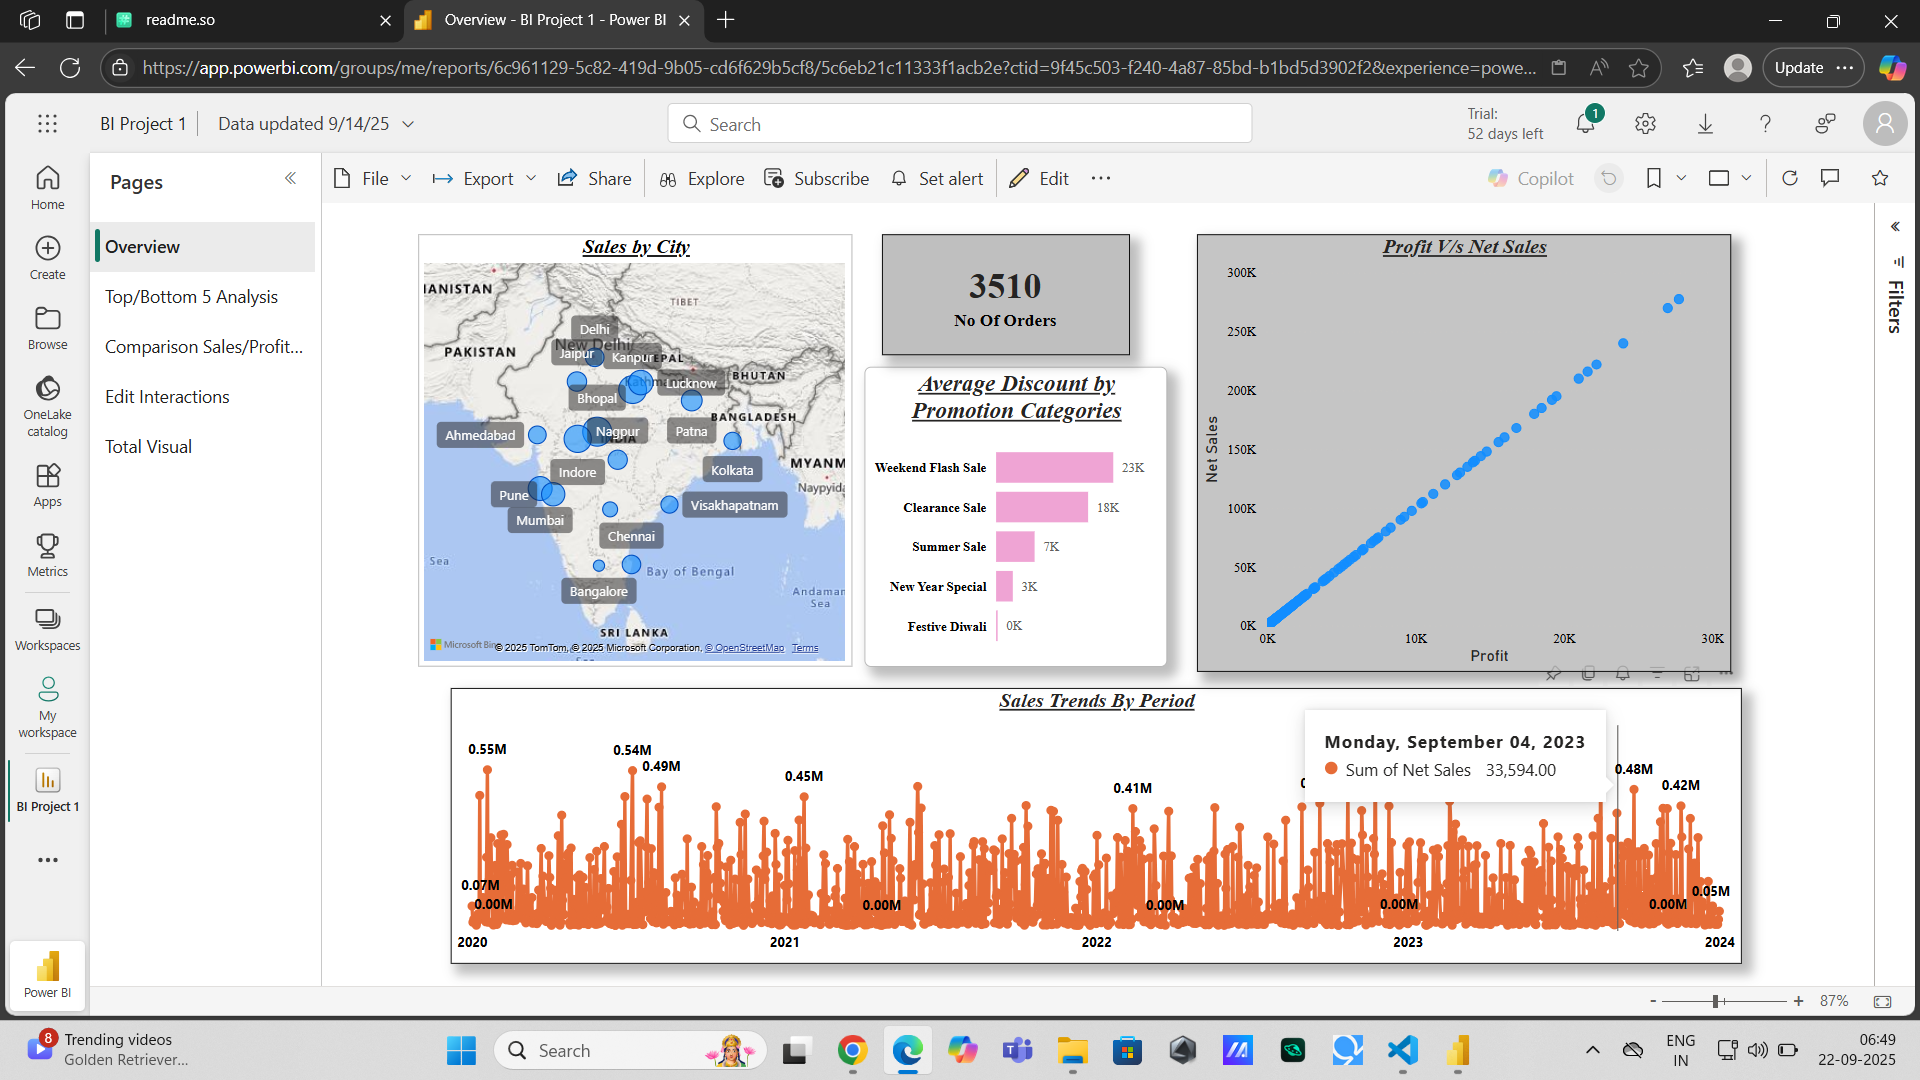

The page's visual inventory and layout, read from the dashboard file:
{"tool":"powerbi","page":{"name":"Overview","canvas":[1280,720],"ordinal":0},"visuals":[{"type":"lineChart","title":"Sales Trends By Period","fields":{"Y":["Sum(Fact Table.Net Sales)"],"Category":["Fact Table.Date (dd/mm/yyyy).Variation.Date Hierarchy.Year"]},"box":[45.3,446,1187,253.9],"z":0},{"type":"scatterChart","title":"Profit V/s Net Sales","fields":{"X":["Fact Table.Profit"],"Y":["Fact Table.Net Sales"]},"box":[731.4,28.8,491.3,402.1],"z":1000},{"type":"barChart","title":"Average Discount by Promotion Categories","fields":{"Y":["Avg(Fact Table.Discount)"],"Category":["Dim Promotion.Promotion Name"]},"box":[425.4,150.9,278.6,275.8],"z":2000},{"type":"map","title":"Sales by City","fields":{"Category":["Dim Customers.City"],"Size":["Sum(Fact Table.Net Sales)"]},"box":[15.1,28.8,399.3,397.9],"z":3000},{"type":"card","fields":{"Values":["Count(Fact Table.OrderID)"]},"box":[441.9,28.8,227.8,111.1],"z":4000}]}

Visuals, with their boxes on the page's 1280x720 design canvas (x1, y1, x2, y2). These are canvas units, not pixel positions in the 1920x1080 screenshot, which may show the page scaled, cropped or inside an application window:
"Sales Trends By Period" lineChart: bbox=[45, 446, 1232, 700]
"Profit V/s Net Sales" scatterChart: bbox=[731, 29, 1223, 431]
"Average Discount by Promotion Categories" barChart: bbox=[425, 151, 704, 427]
"Sales by City" map: bbox=[15, 29, 414, 427]
card - Count(Fact Table.OrderID): bbox=[442, 29, 670, 140]
